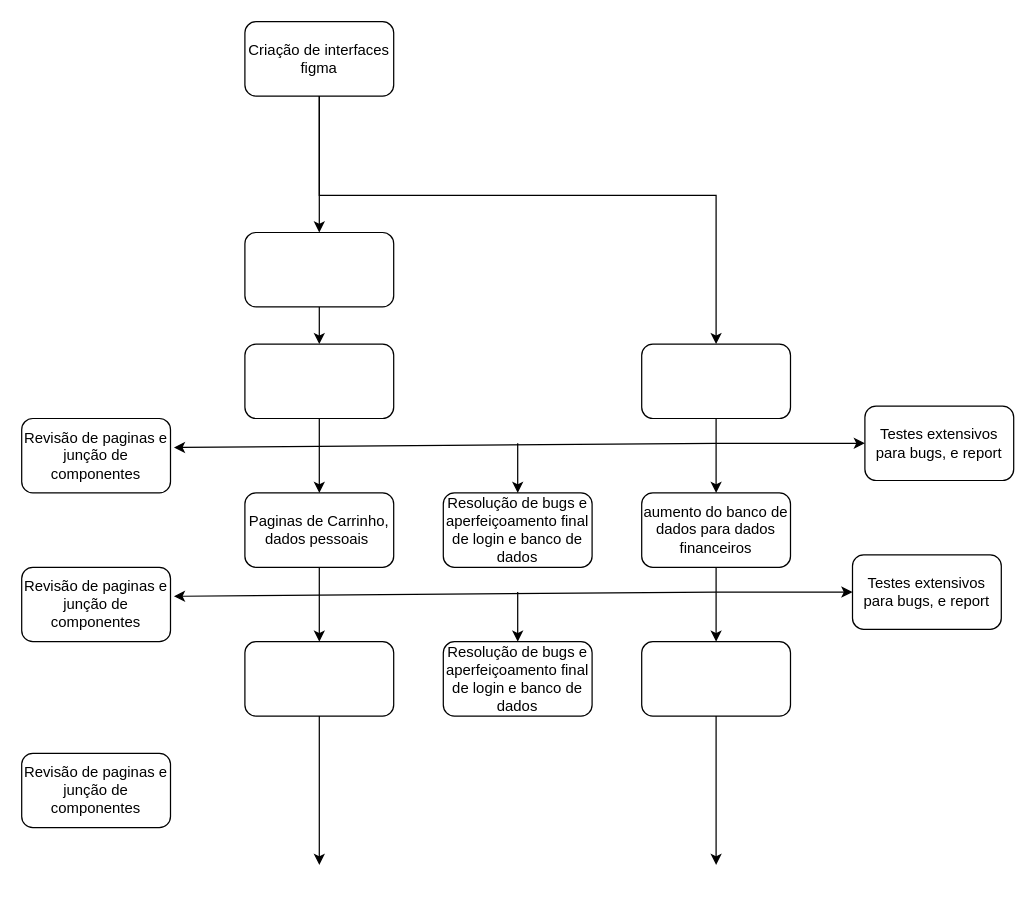
This 1035x897 diagram has some shape labels left out. Each missing label, with the centre of its shape:
"Banco de dados de clientes" belongs at point 715,380.
"Funcionamento do GPS e implementação" belongs at point 715,678.
"Home" belongs at point 319,269.
"Pagina de Login" belongs at point 319,380.
"Pagina para espera de entrega de pedidos" belongs at point 319,678.
